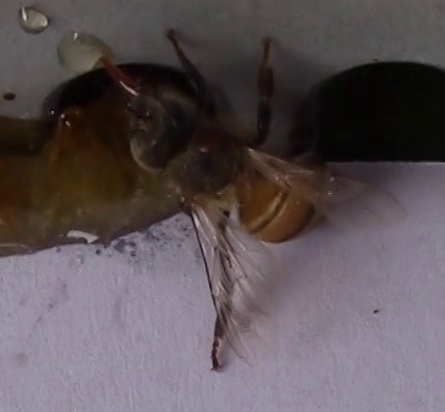Varroa destructor: (191, 125, 230, 153)
